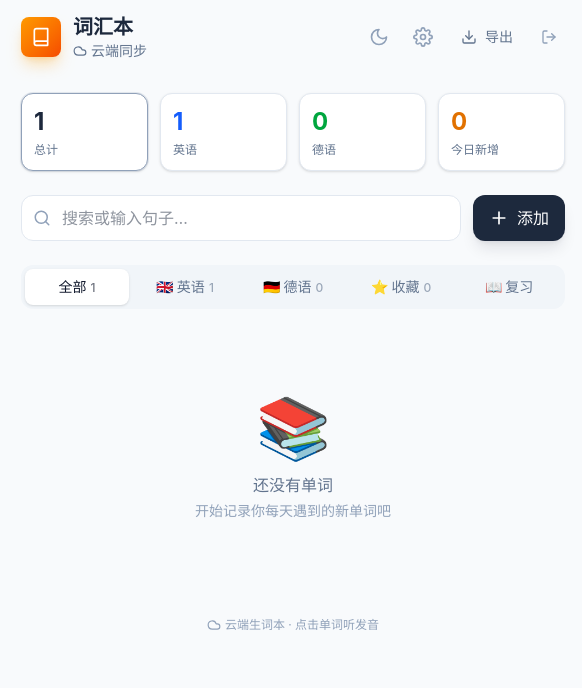
Test: App draft and save recovery › toggles an expansion checkbox once instead of undoing its own click through bubbling
Click the button "🇬🇧 英语1".
click(185, 287)  # box top-left (133, 269), bottom-right (237, 305)
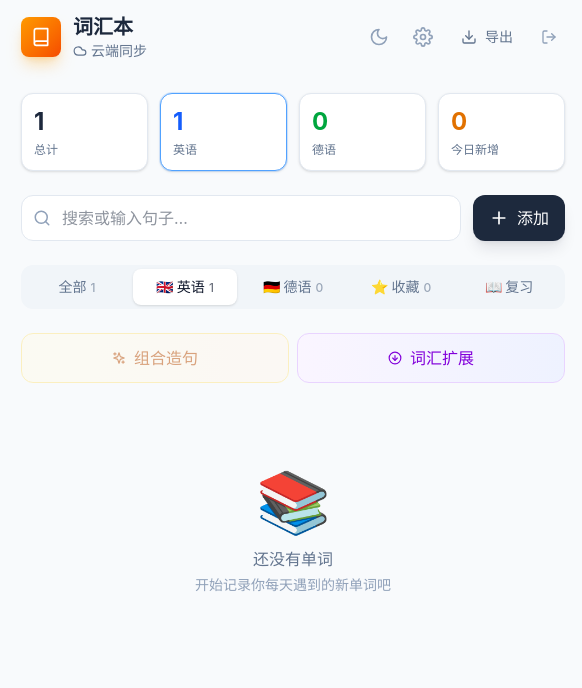
Result: the button "词汇扩展" is shown
Click the button "词汇扩展".
click(431, 358)  # box top-left (297, 333), bottom-right (565, 383)
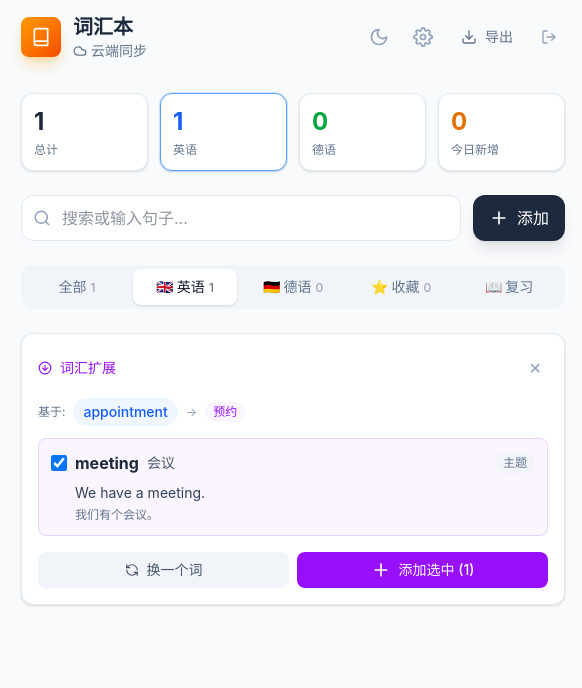
Result: the checkbox named "选择 meeting" is checked
Click the checkbox named "选择 meeting".
click(59, 463)  # box top-left (51, 455), bottom-right (67, 471)
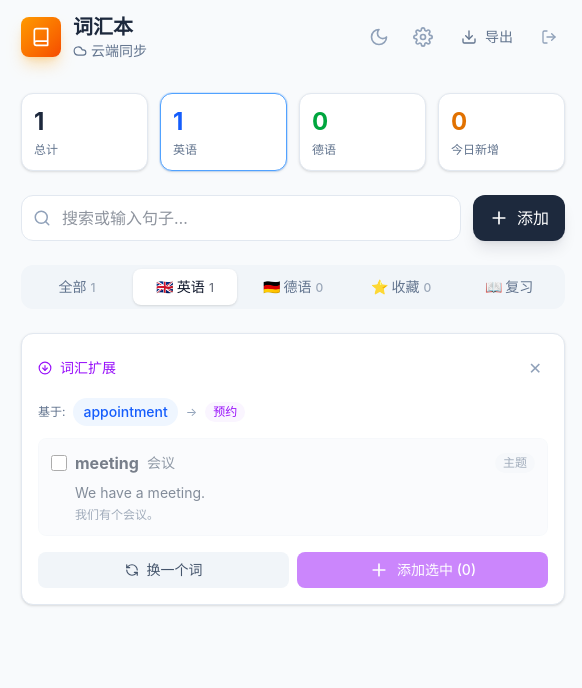
Result: the checkbox named "选择 meeting" is not checked at top-left (51, 455), bottom-right (67, 471)
Result: the text "添加选中 (0)" is shown at top-left (297, 552), bottom-right (548, 588)
